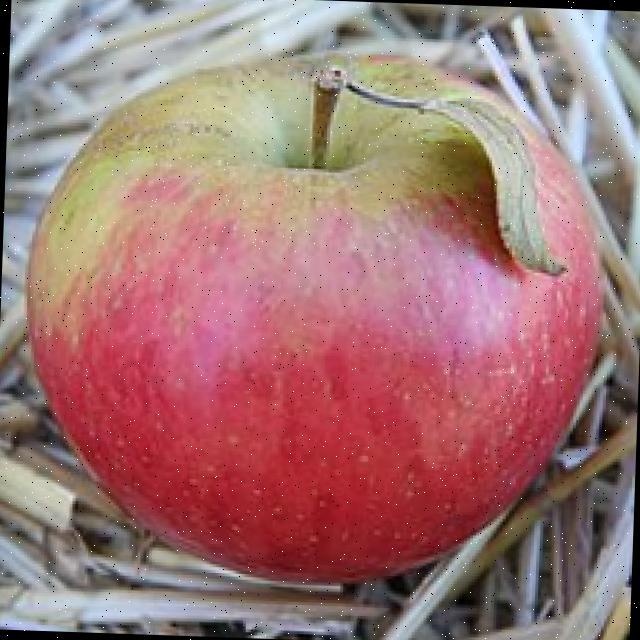Apel: (11, 36, 614, 594)
